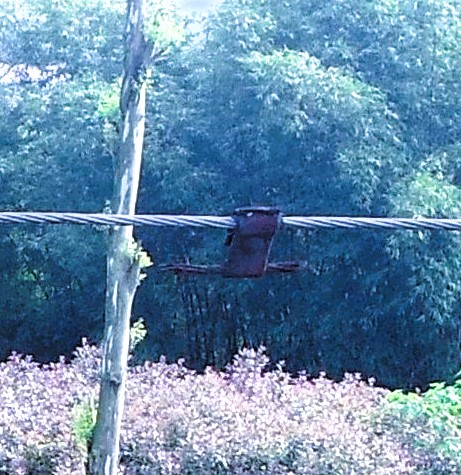Damage of shockproof hammer: (149, 196, 312, 289)
